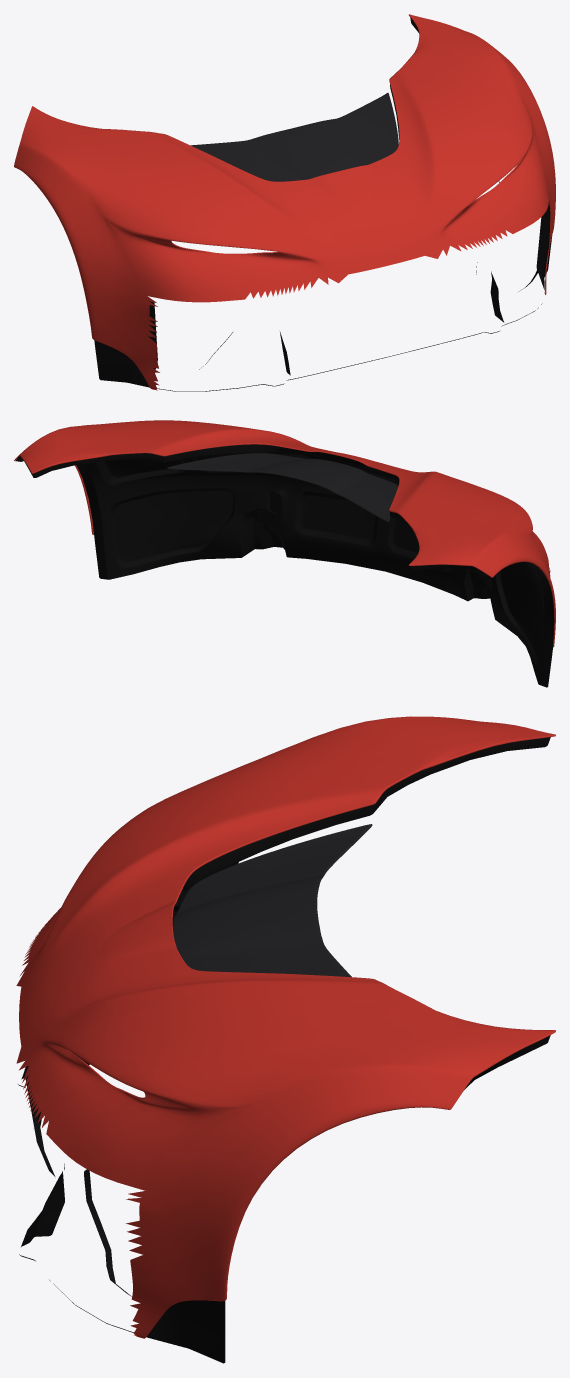
The model's file is vela_hood_dome.glb.
The picture shows the model from 3 angles, top to bottom: view 1: azimuth 30°, elevation 25°; view 2: azimuth 150°, elevation 25°; view 3: azimuth 270°, elevation 25°; orthographic projection. The views are drawn at different scales.
Visible parts, largest first — view 1: hood.001, hood_vent.001, hood_inner.001; view 2: hood_inner.001, hood.001, hood_vent.001; view 3: hood.001, hood_vent.001, hood_inner.001.
Part boxes in pixels (<box>): hood.001: <box>14,14,555,390</box>; hood_vent.001: <box>190,93,398,181</box>; hood_inner.001: <box>94,18,552,391</box>; hood_inner.001: <box>16,444,554,687</box>; hood.001: <box>14,420,555,647</box>; hood_vent.001: <box>167,453,398,522</box>; hood.001: <box>16,716,555,1338</box>; hood_vent.001: <box>173,824,372,976</box>; hood_inner.001: <box>18,737,550,1363</box>.
Bounding box in the file's own units: 1.9 × 0.7218 × 1.16.
